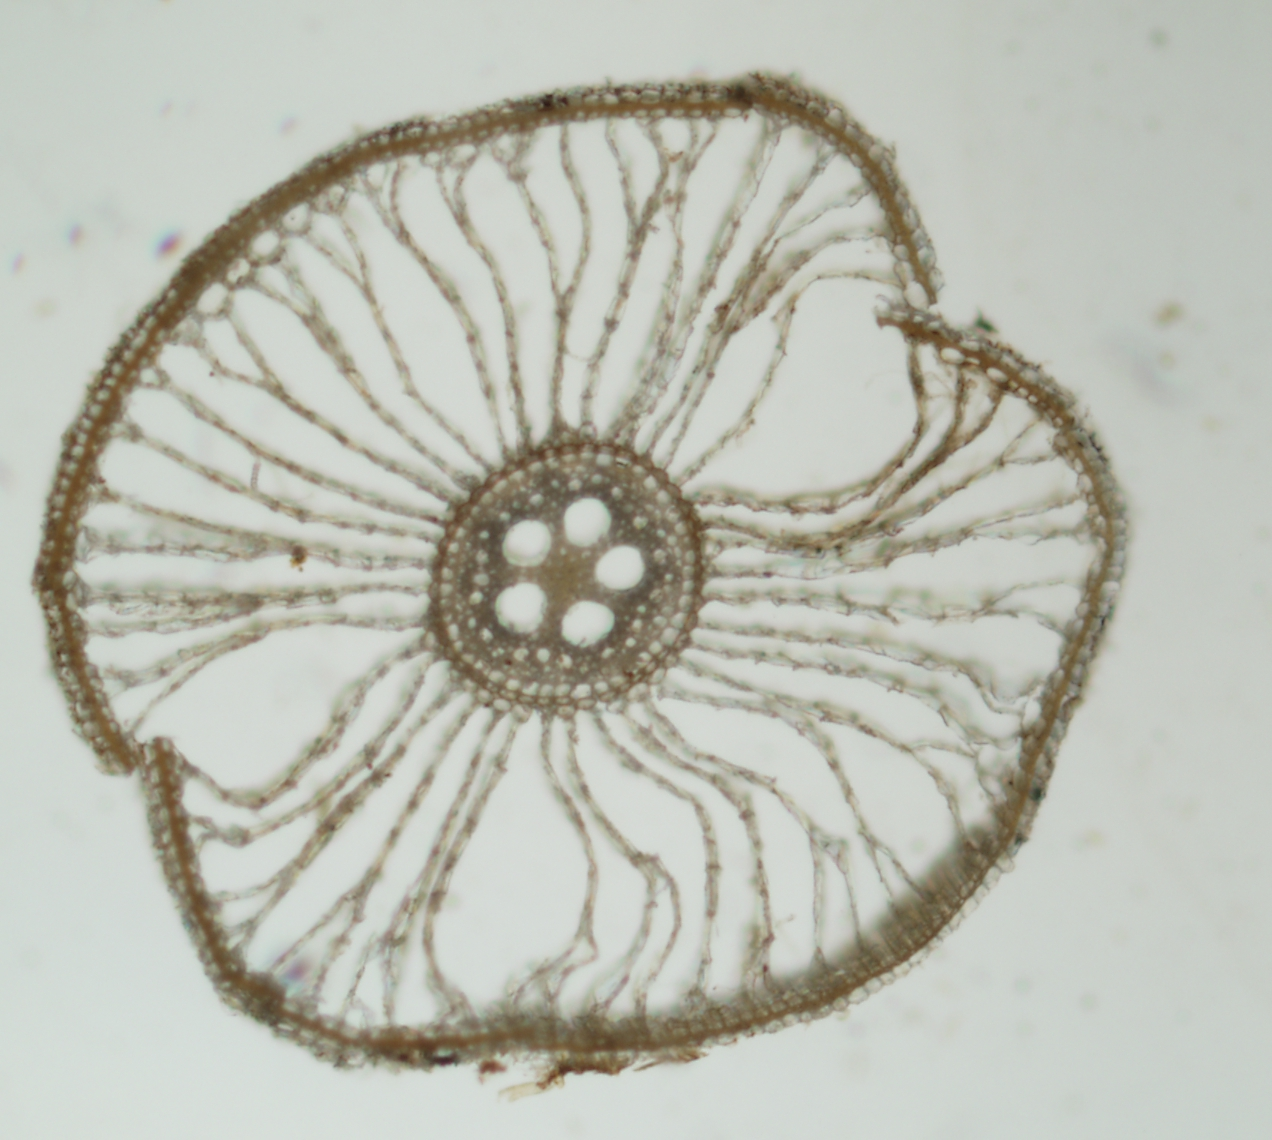lm: (495, 582, 548, 634), (561, 600, 615, 648), (502, 519, 552, 567), (563, 498, 611, 548), (595, 545, 645, 590)
